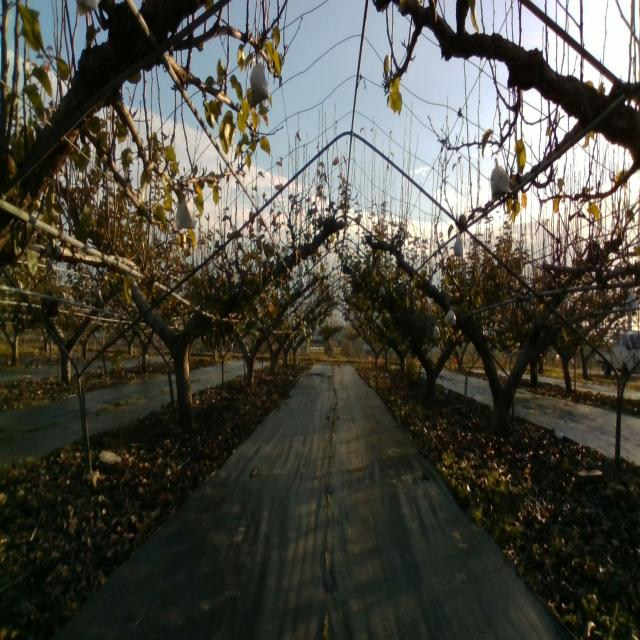pearbags: (250, 63, 271, 108), (490, 157, 511, 200), (174, 197, 196, 233), (453, 234, 464, 258), (445, 305, 456, 326)
